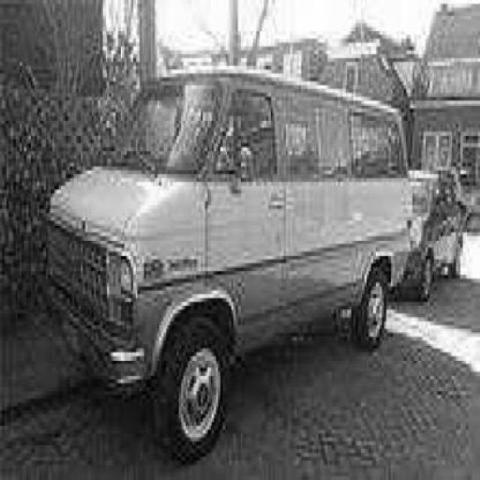van: (53, 65, 412, 462)
